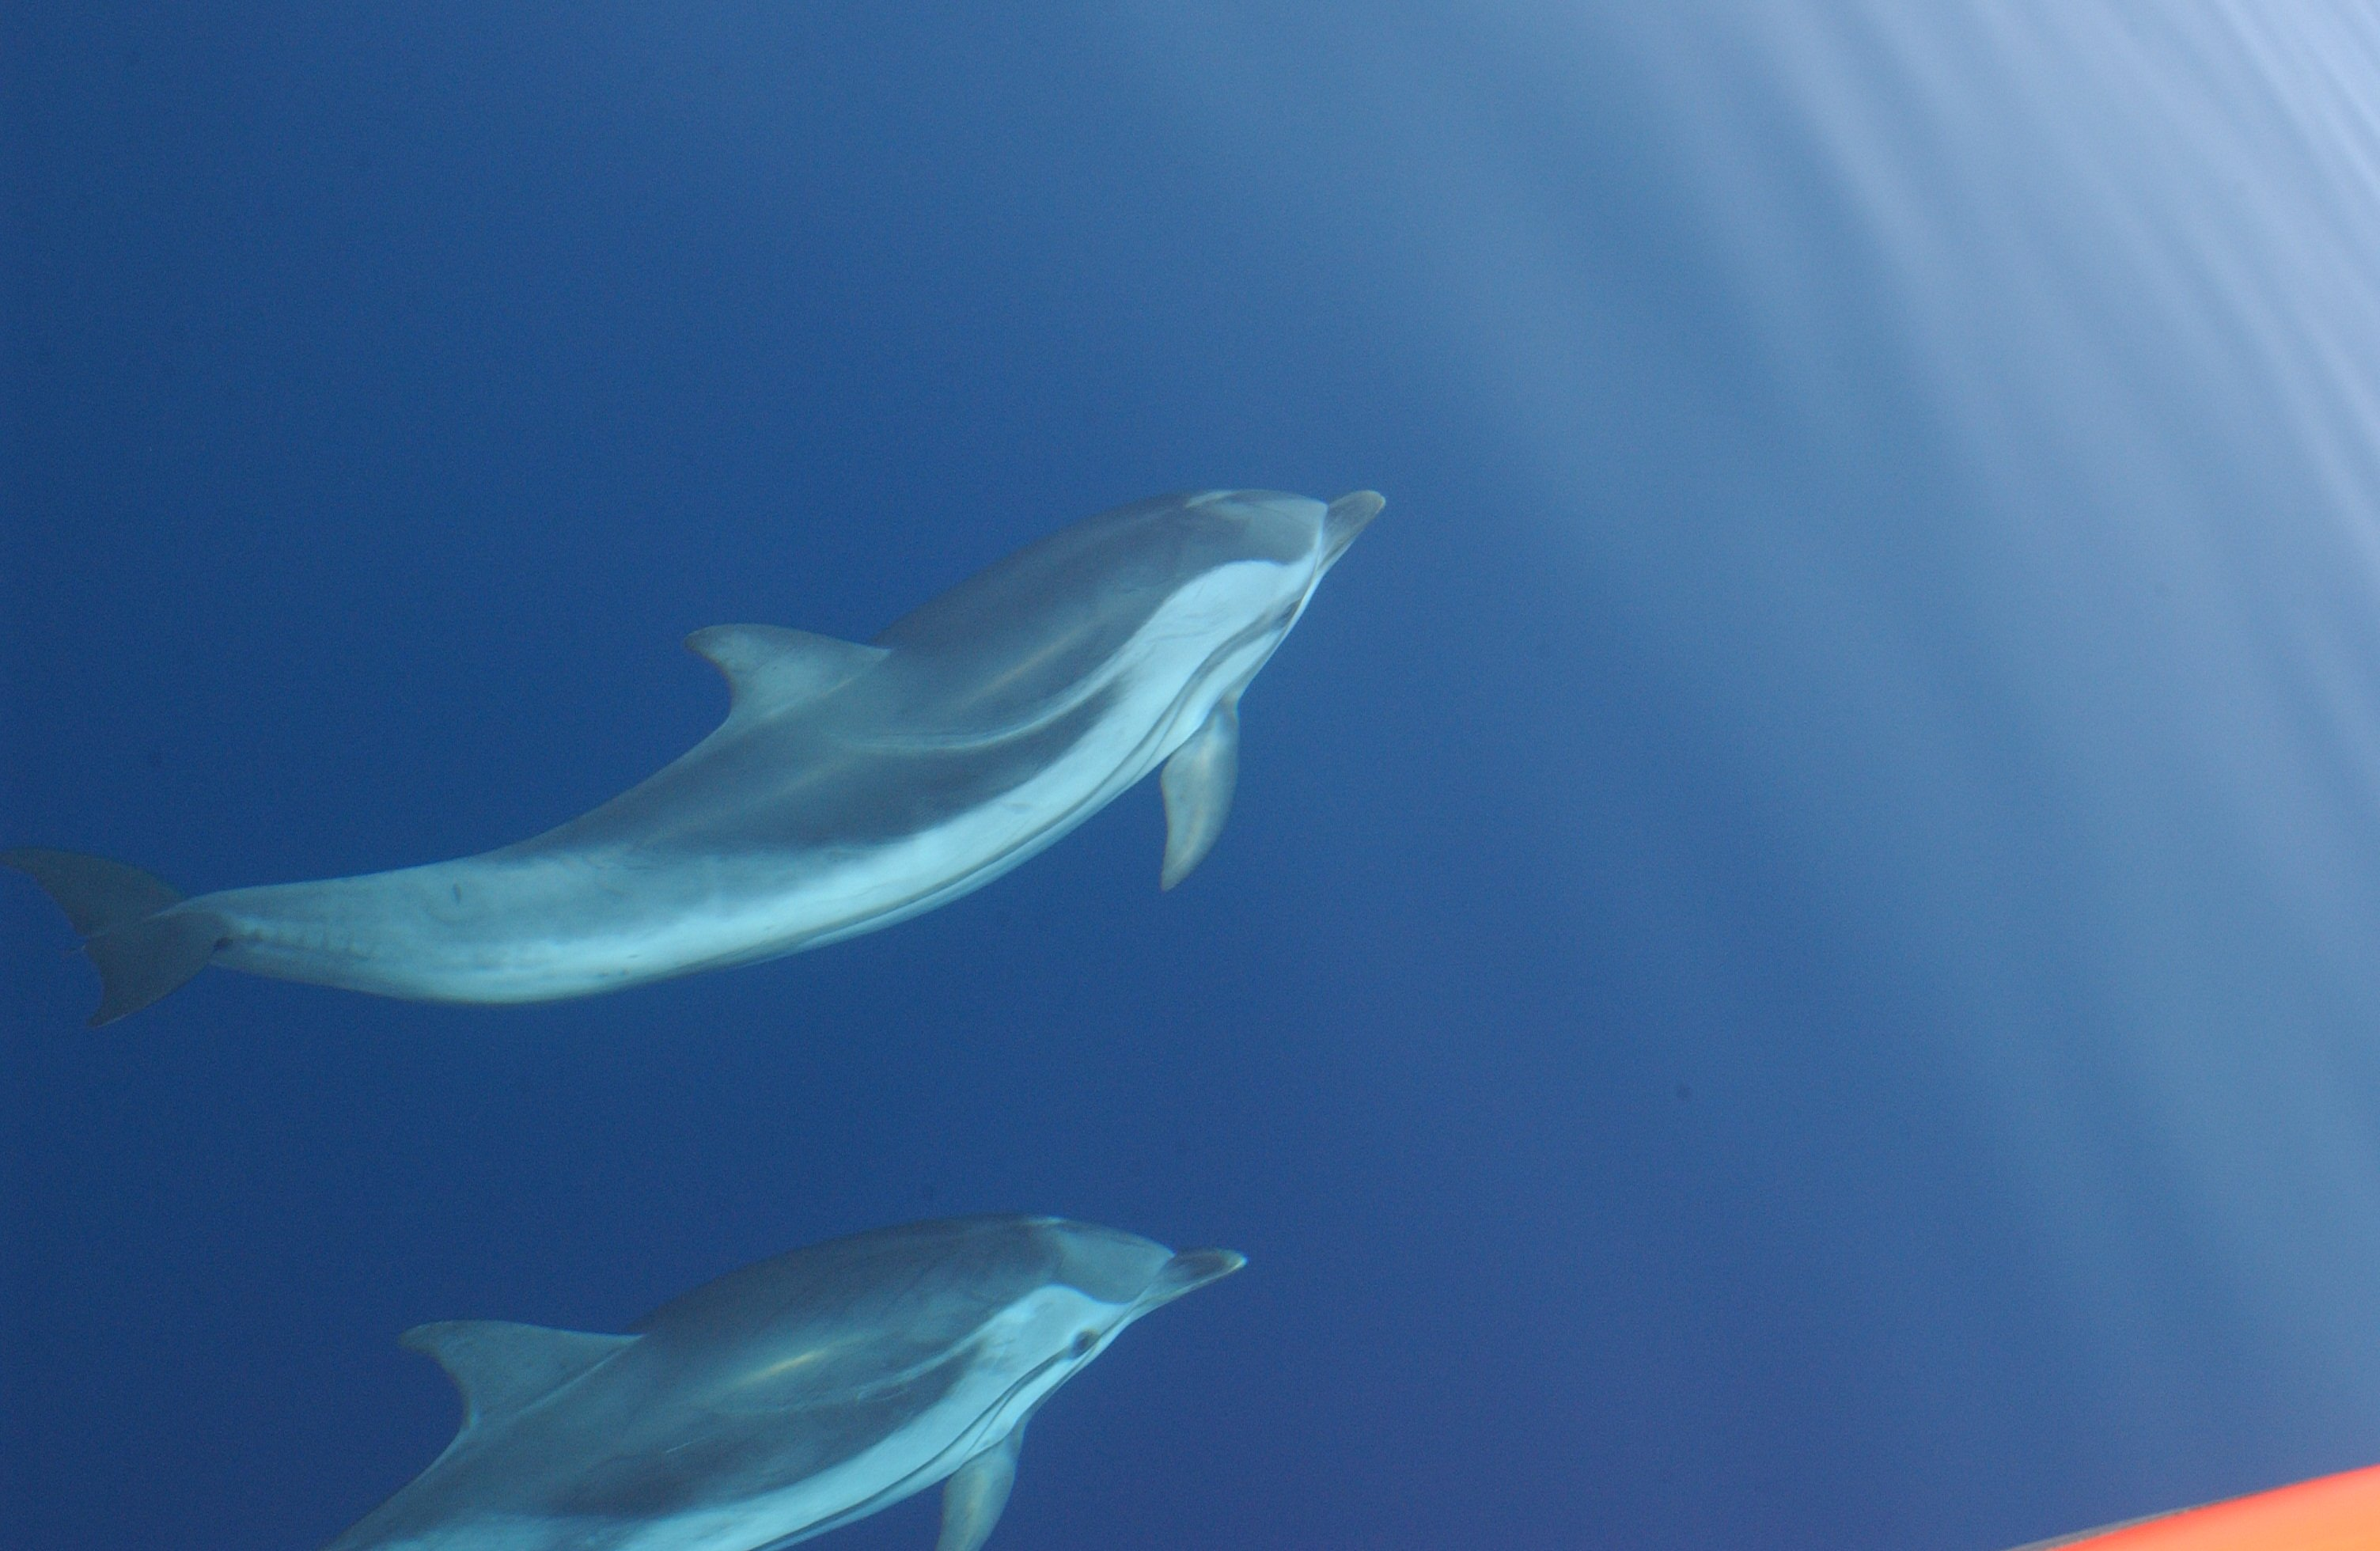dolphin: (43, 465, 1396, 1039), (274, 1201, 1251, 1539)
